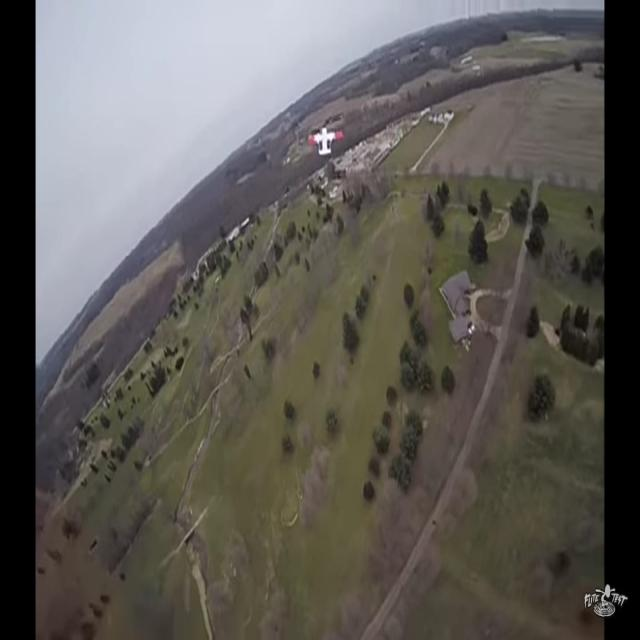iha: (307, 127, 345, 155)
